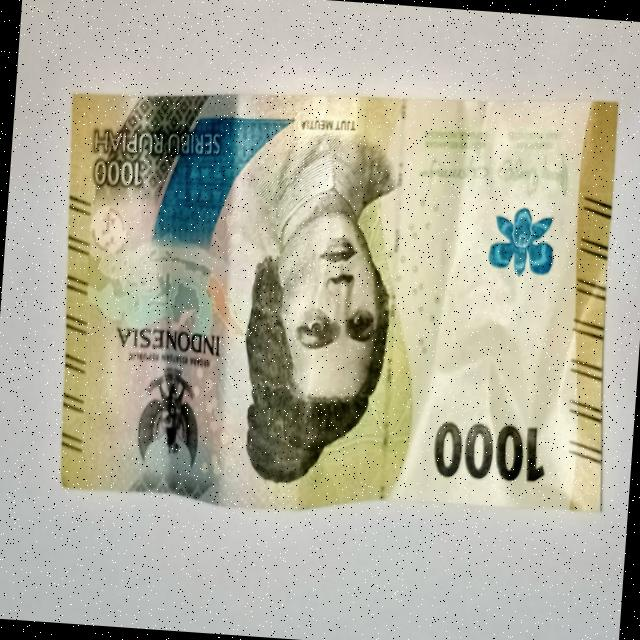1K: (28, 53, 640, 546)
